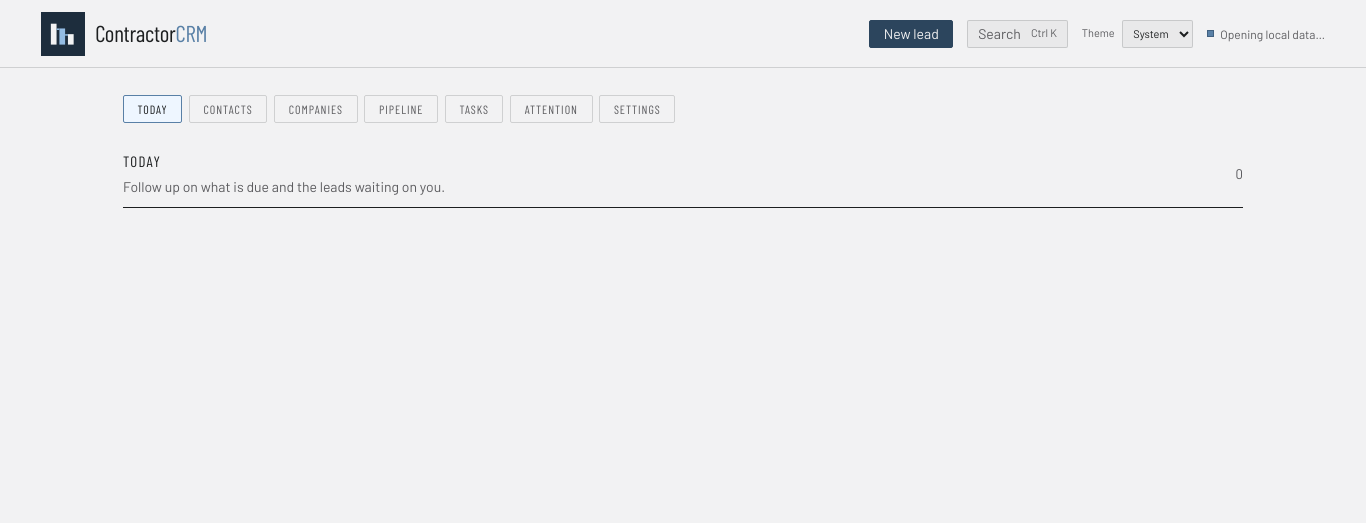
Test case: contact list and detail › uses the core matcher for an active tag filter
Click the button "Contacts".
click(228, 109)  # box x1=189 y1=95 x2=267 y2=123
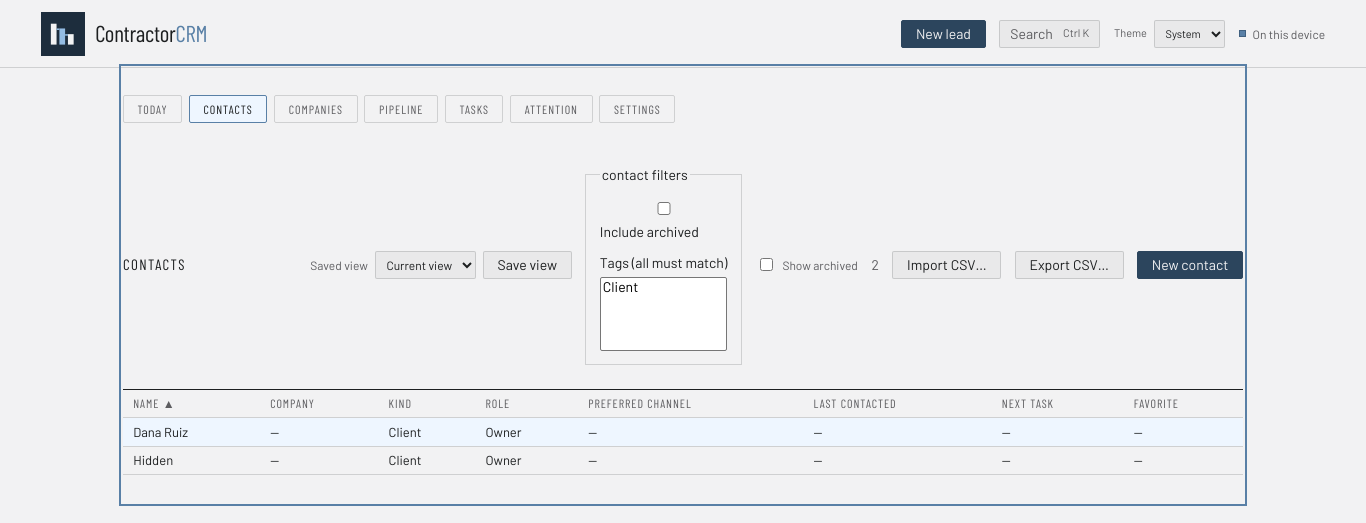
Select "Client" in the dropdown labelled "Tags (all must match)" at x=664, y=314, box x1=600 y1=276 x2=728 y2=350
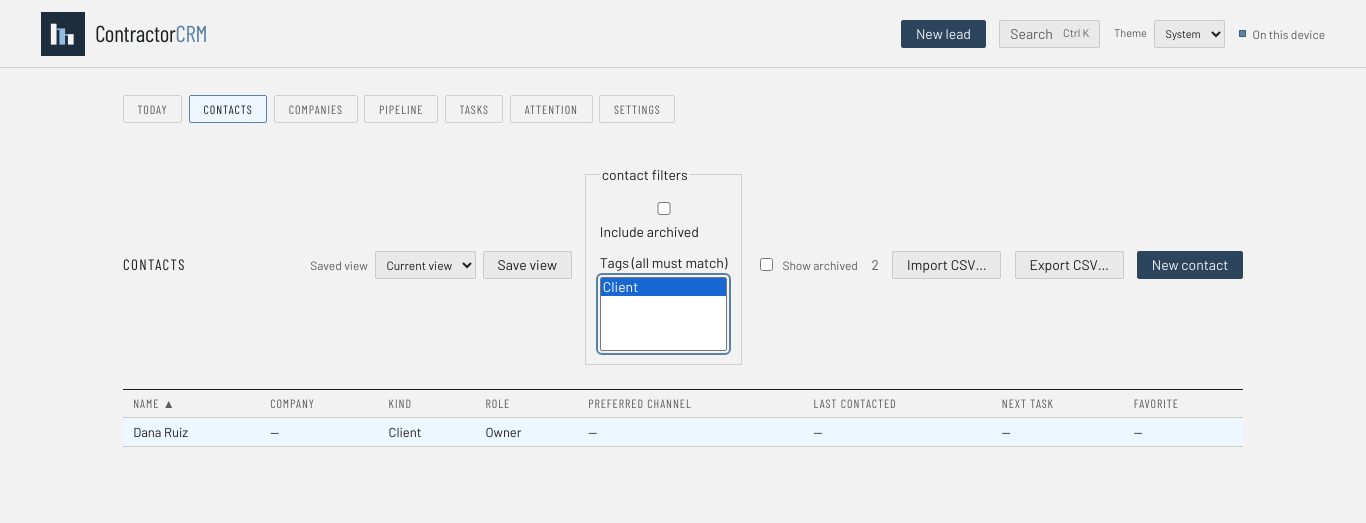
Now the text "Dana Ruiz" is shown, box x1=133 y1=424 x2=188 y2=440
Now the text "Hidden" is gone
